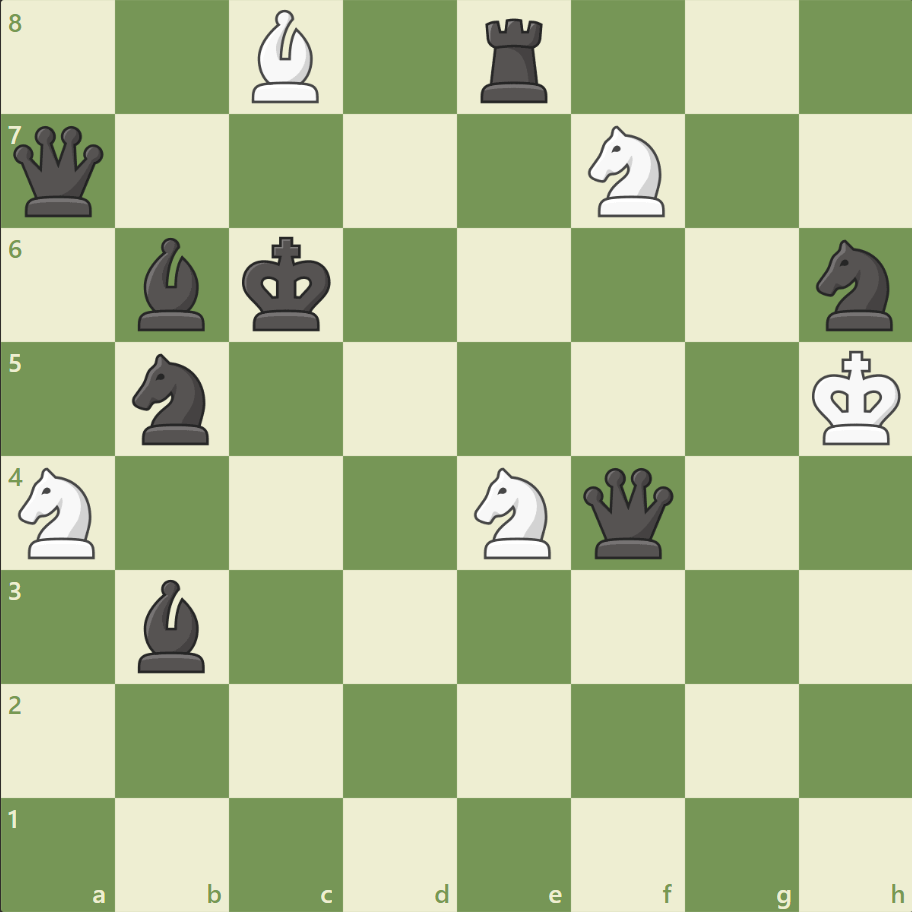B: (244, 6, 328, 109)
K: (806, 344, 906, 452)
N: (11, 461, 108, 564), (465, 461, 562, 564), (579, 121, 676, 223)
b: (131, 233, 215, 336), (131, 574, 215, 676)
k: (238, 231, 338, 339)
n: (124, 348, 222, 450), (806, 234, 903, 337)
q: (10, 122, 109, 222), (578, 463, 677, 562)
r: (473, 12, 556, 109)
